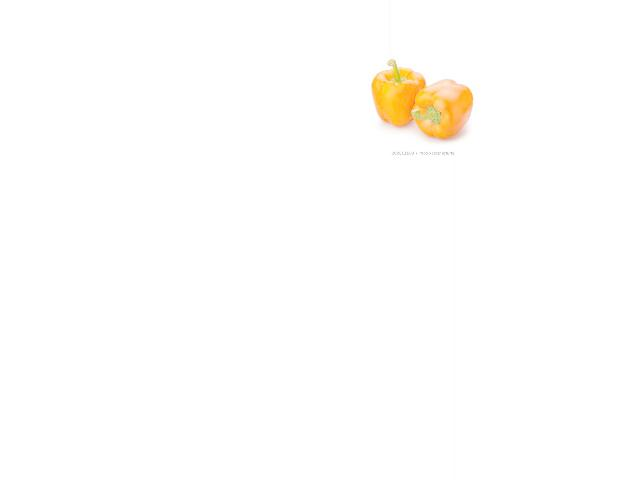bell_pepper: (409, 77, 474, 145)
